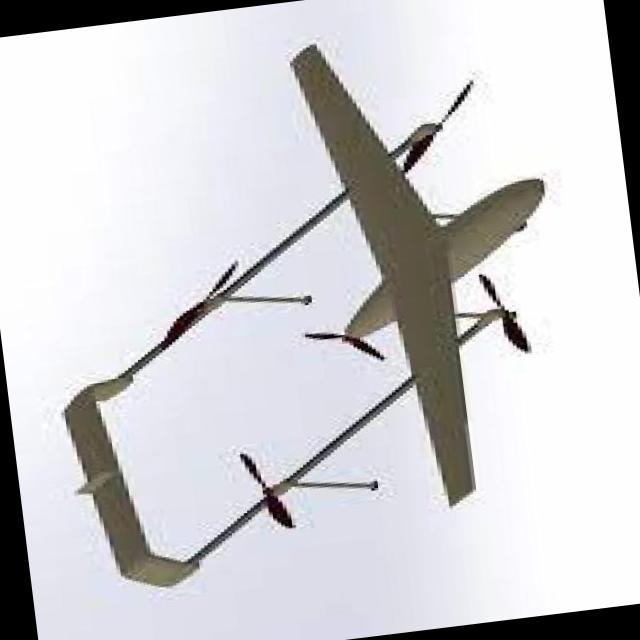UAV: (17, 37, 578, 609)
